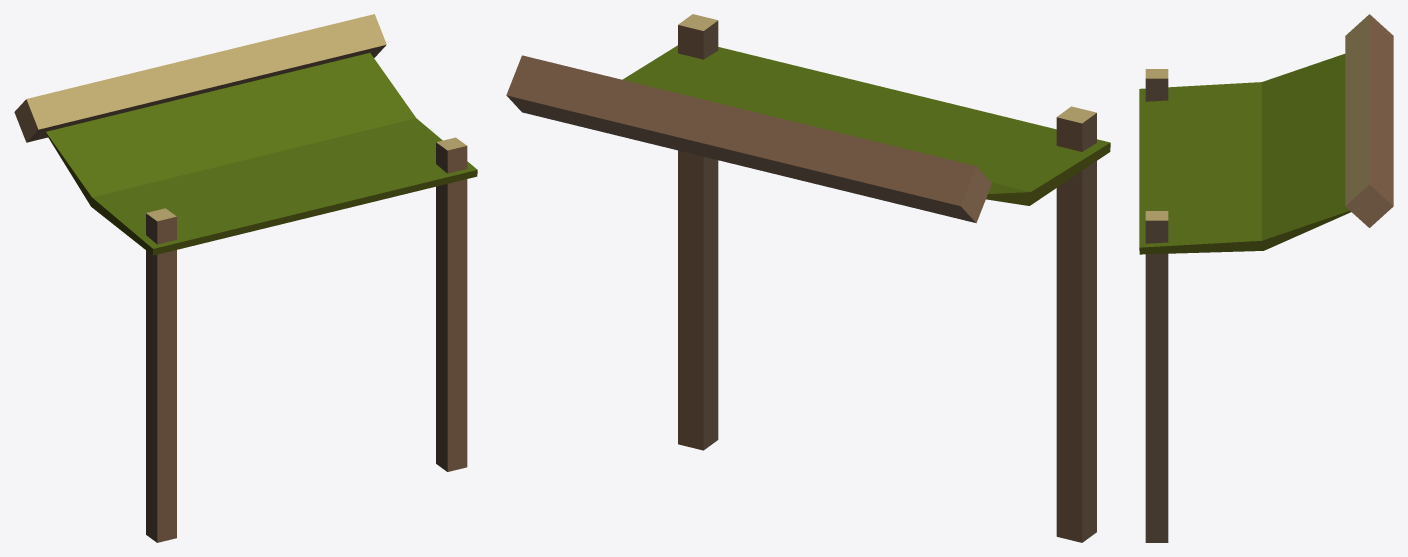
File: TB_D_Bd_Canopy_WLeg_B.FBX
The picture shows the model from 3 angles, left to right: view 1: azimuth 30°, elevation 25°; view 2: azimuth 150°, elevation 25°; view 3: azimuth 270°, elevation 25°; orthographic projection. The views are drawn at different scales.
Parts seen in each view (by area): view 1: TB_D_Bd_Canopy_WLeg_B; view 2: TB_D_Bd_Canopy_WLeg_B; view 3: TB_D_Bd_Canopy_WLeg_B.
Boxes of the visible parts, <box> form: TB_D_Bd_Canopy_WLeg_B: <box>14,14,477,542</box>; TB_D_Bd_Canopy_WLeg_B: <box>506,14,1110,542</box>; TB_D_Bd_Canopy_WLeg_B: <box>1139,14,1393,542</box>.
Size of the model in its own units: 2.5 by 2.52 by 1.58.
